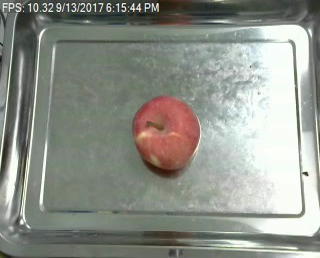Apple: (130, 93, 202, 171)
